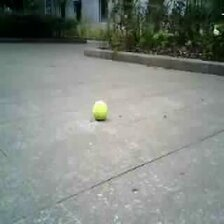tennis: (92, 101, 108, 120)
